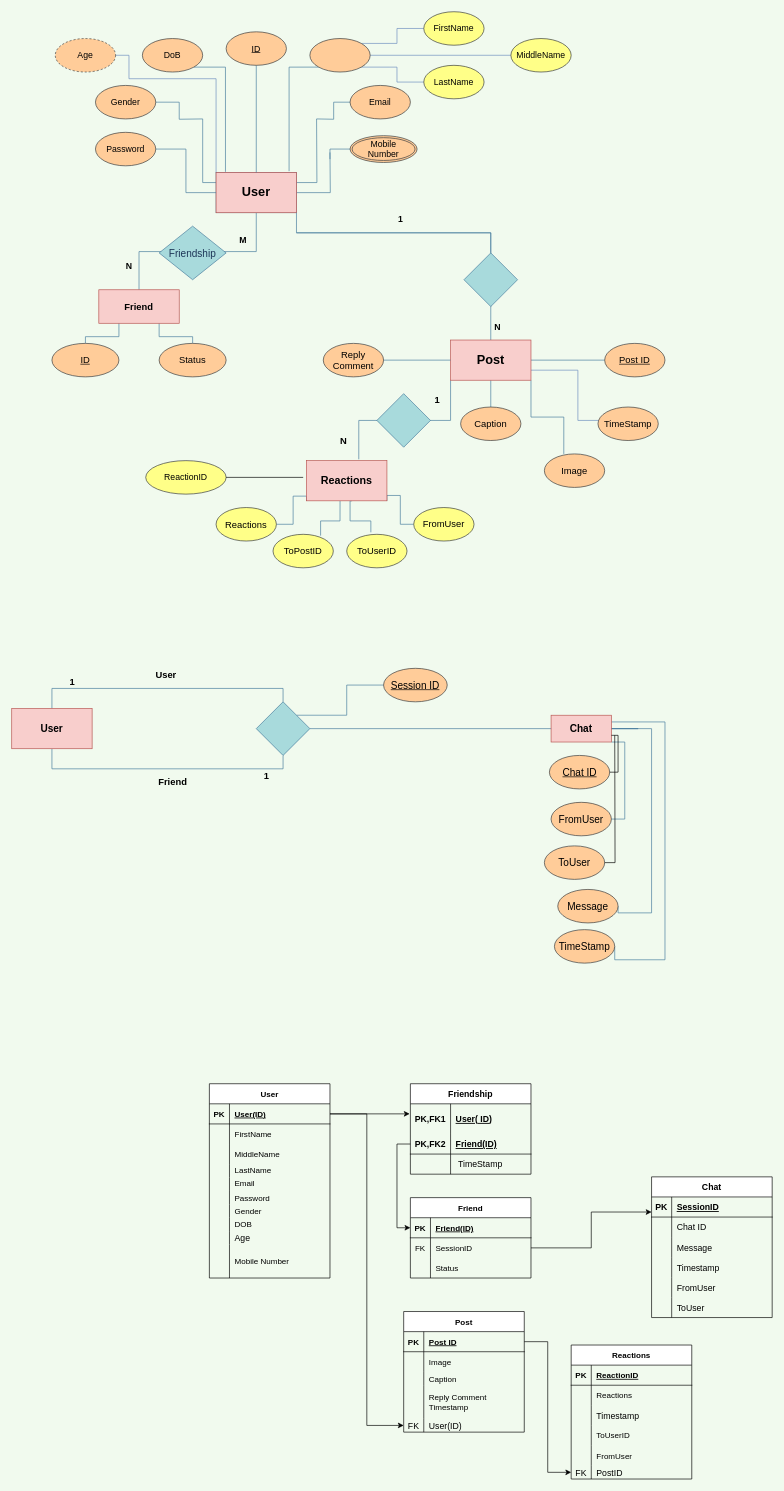
Some shapes in this 784 by 1491 pixel diagram are drawn without their labels. Here are the shapes that lost their labels. From the top down, the centre of each, then its label:
[339,55]: Name
[490,279]: Upload
[403,420]: Reply
[283,728]: Chat System
